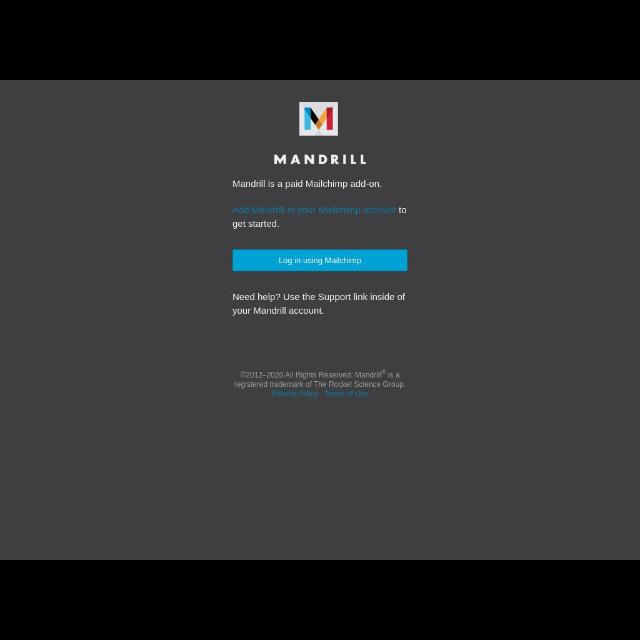image: (300, 102, 338, 136)
text: (232, 370, 406, 398), (232, 206, 406, 230), (232, 292, 406, 314), (232, 181, 380, 189), (274, 154, 366, 166), (278, 257, 362, 267)
textbutton: (232, 248, 408, 274)
